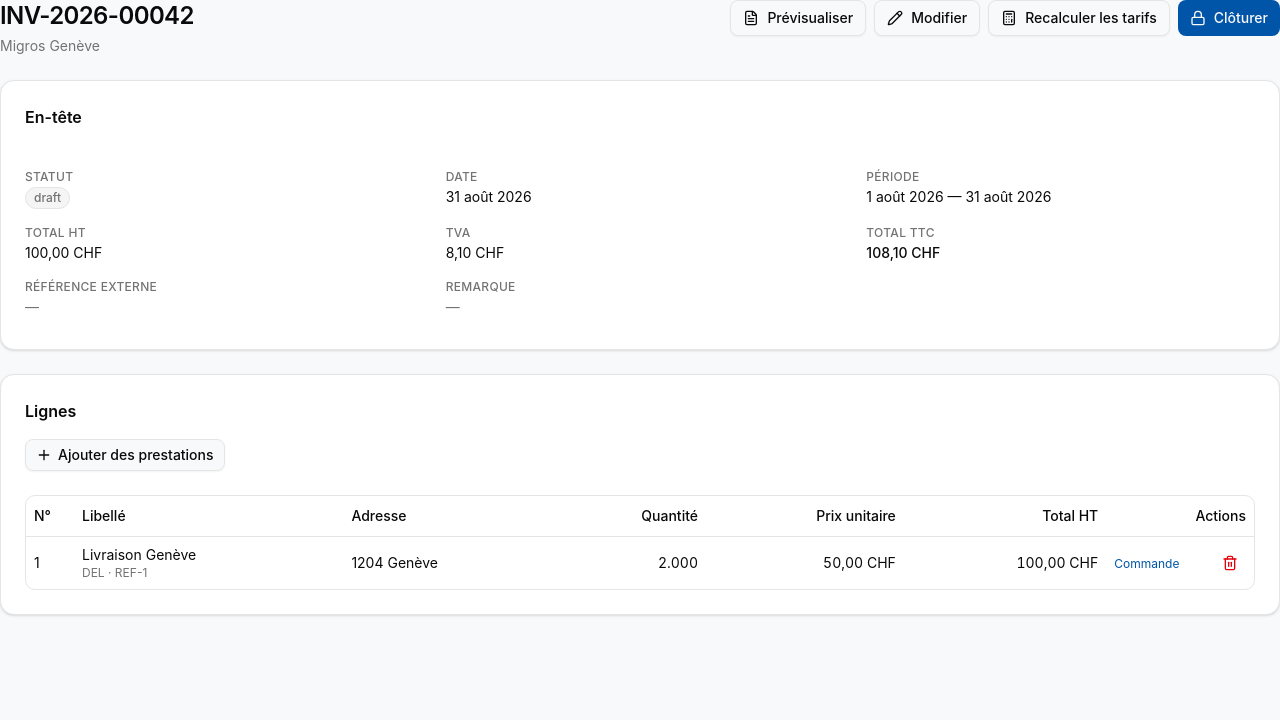
clôture › annonce les destinations avant de confirmer
The width and height of the screenshot is (1280, 720).
What coordinates should you click on to do the following:
click the button "Clôturer"
I would click on:
 (1229, 18)
Its box is [1178,0,1279,36].
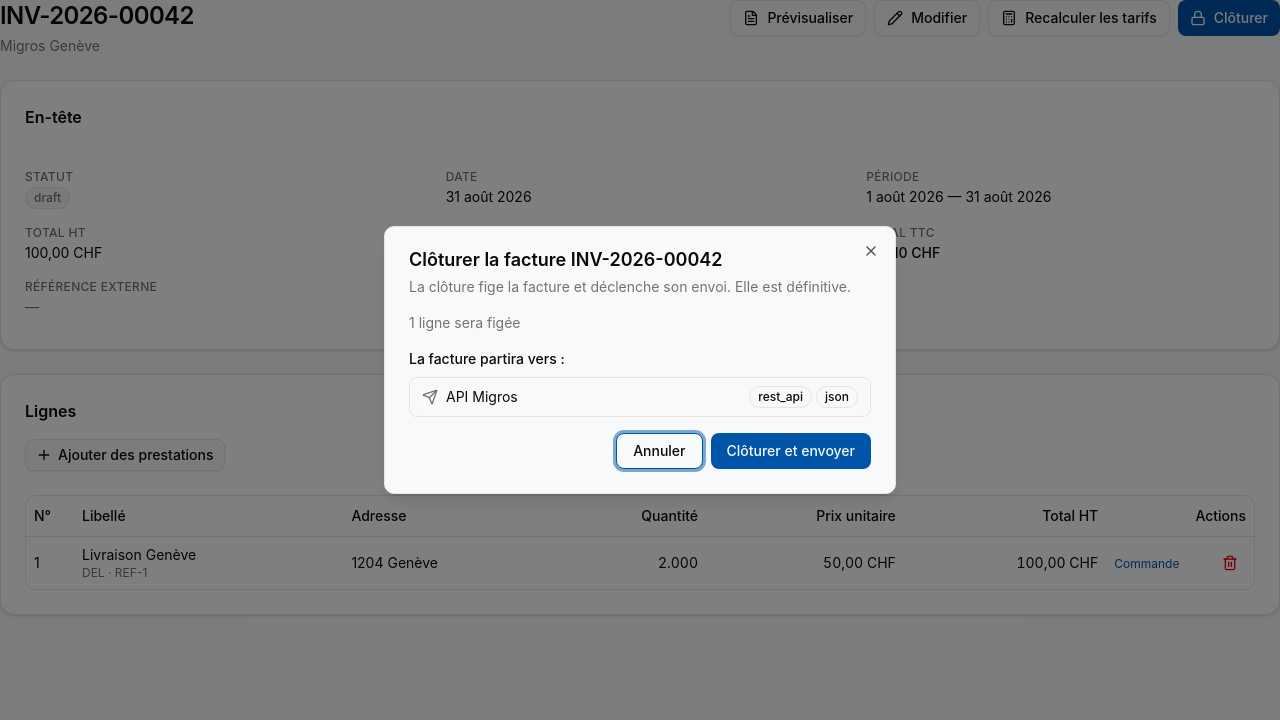
Expected: the text "API Migros" is shown, [422,387,518,407]
Expected: the text "rest_api" is shown, [749,386,812,408]
